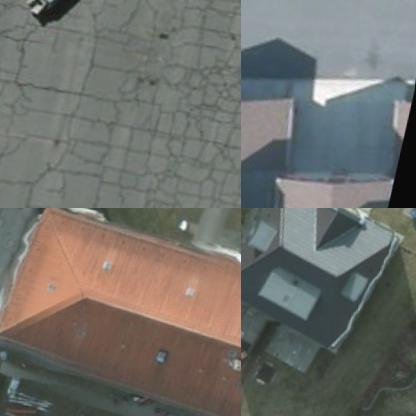car: (29, 0, 94, 16)
